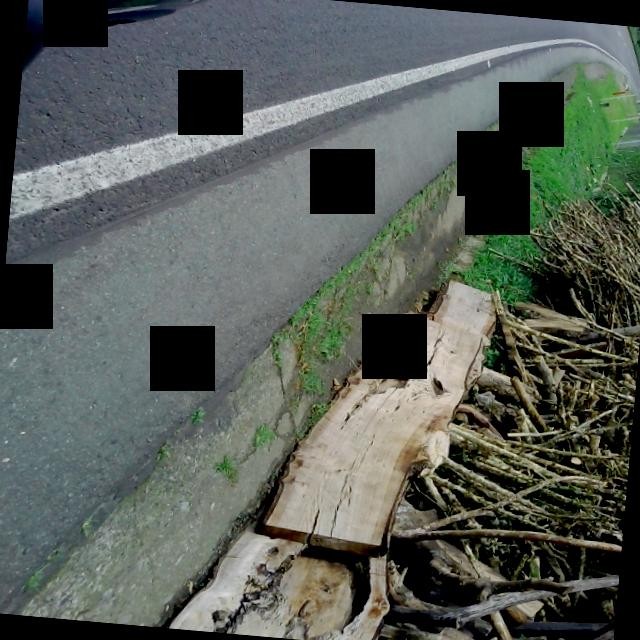DITCH: (0, 0, 640, 640), (0, 0, 606, 640)
